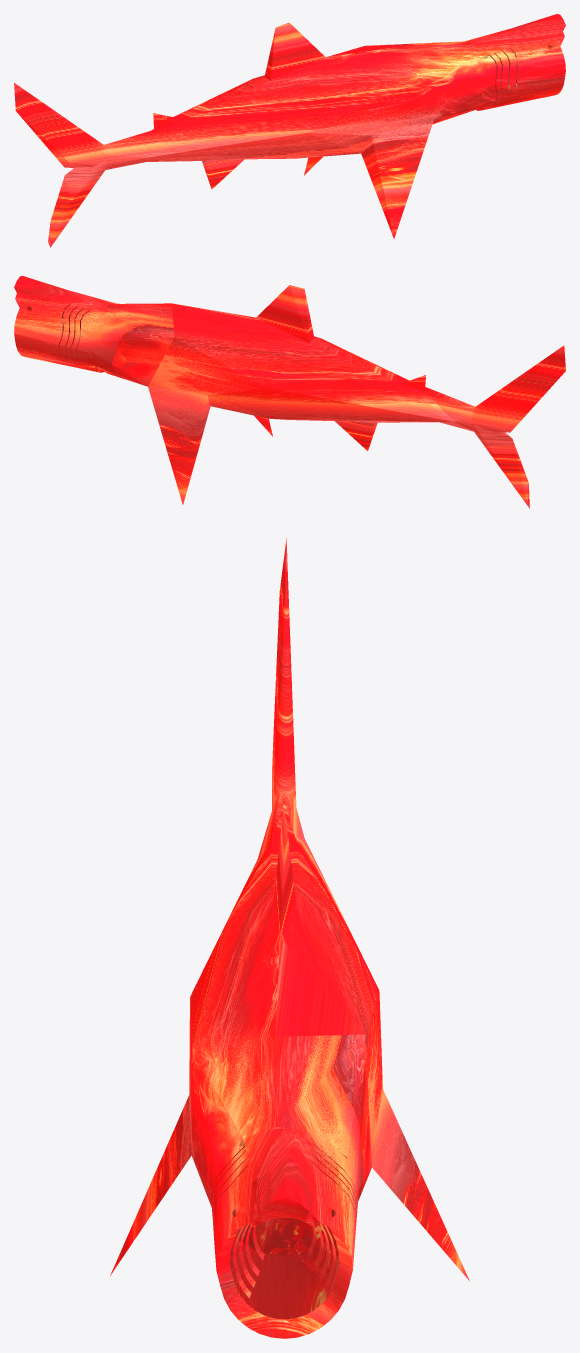
File: Basking Shark.glb
3 views of the same model, one above another, from view 1: azimuth 30°, elevation 25°; view 2: azimuth 150°, elevation 25°; view 3: azimuth 270°, elevation 25° (orthographic). The views are drawn at different scales.
Parts seen in each view (by area): view 1: SharkBody, SharkHead; view 2: SharkBody, SharkHead; view 3: SharkBody, SharkHead.
Boxes of the visible parts, x1,y1,x2,y2 form: SharkBody: [14, 22, 502, 247]; SharkHead: [465, 14, 565, 110]; SharkBody: [78, 285, 565, 508]; SharkHead: [14, 276, 115, 372]; SharkBody: [110, 538, 469, 1280]; SharkHead: [210, 1128, 358, 1338].
Bounding box in the file's own units: 7.36 × 2.7 × 2.11.
Materials: 2 (1 with a texture image).
